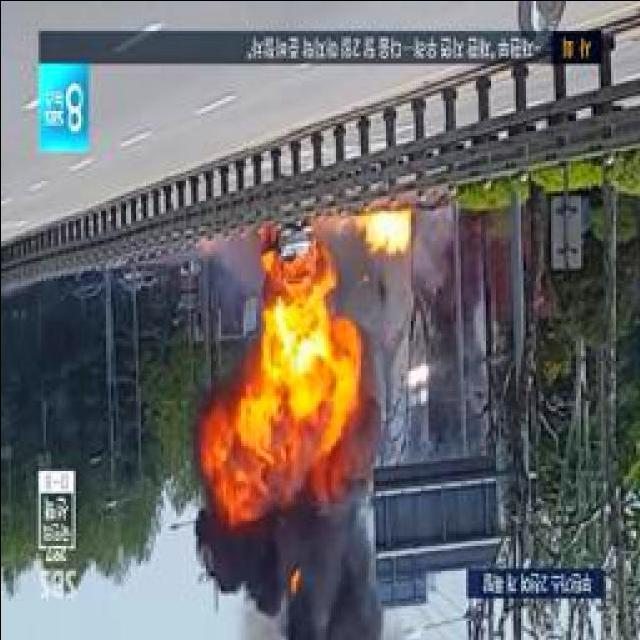Fire: (245, 223, 352, 465), (364, 210, 414, 250)
